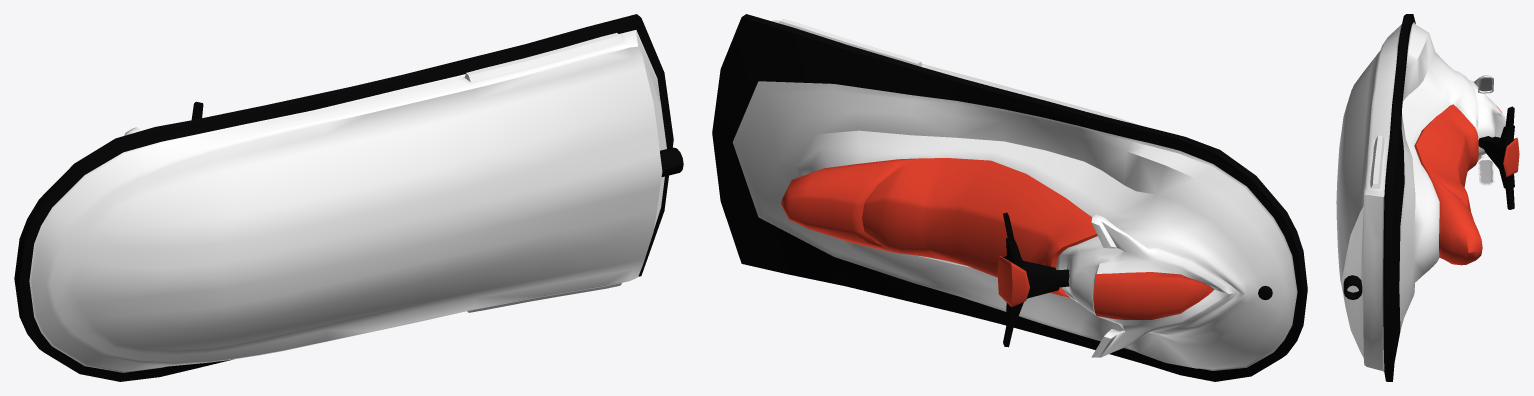
Rendered from Jet Ski.fbx.
3 renders of one model, left to right at view 1: azimuth 30°, elevation 25°; view 2: azimuth 150°, elevation 25°; view 3: azimuth 270°, elevation 25°, orthographic. The views are drawn at different scales.
Parts seen in each view (by area): view 1: 15210_JetSki_ 2_person_V1; view 2: 15210_JetSki_ 2_person_V1; view 3: 15210_JetSki_ 2_person_V1.
Boxes of the visible parts, left/top/right/bottom form: 15210_JetSki_ 2_person_V1: left=14, top=14, right=683, bottom=381; 15210_JetSki_ 2_person_V1: left=712, top=14, right=1307, bottom=381; 15210_JetSki_ 2_person_V1: left=1336, top=14, right=1519, bottom=381.
Size of the model in its own units: 2.02 by 0.7832 by 0.6832.
